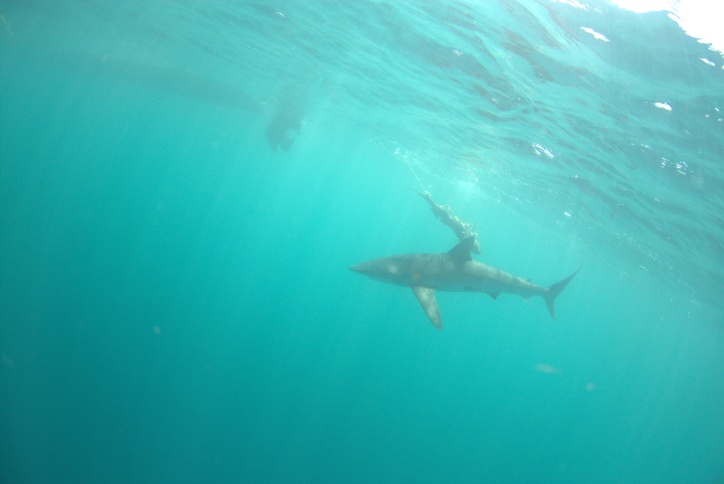Sedoso: (328, 226, 581, 345)
